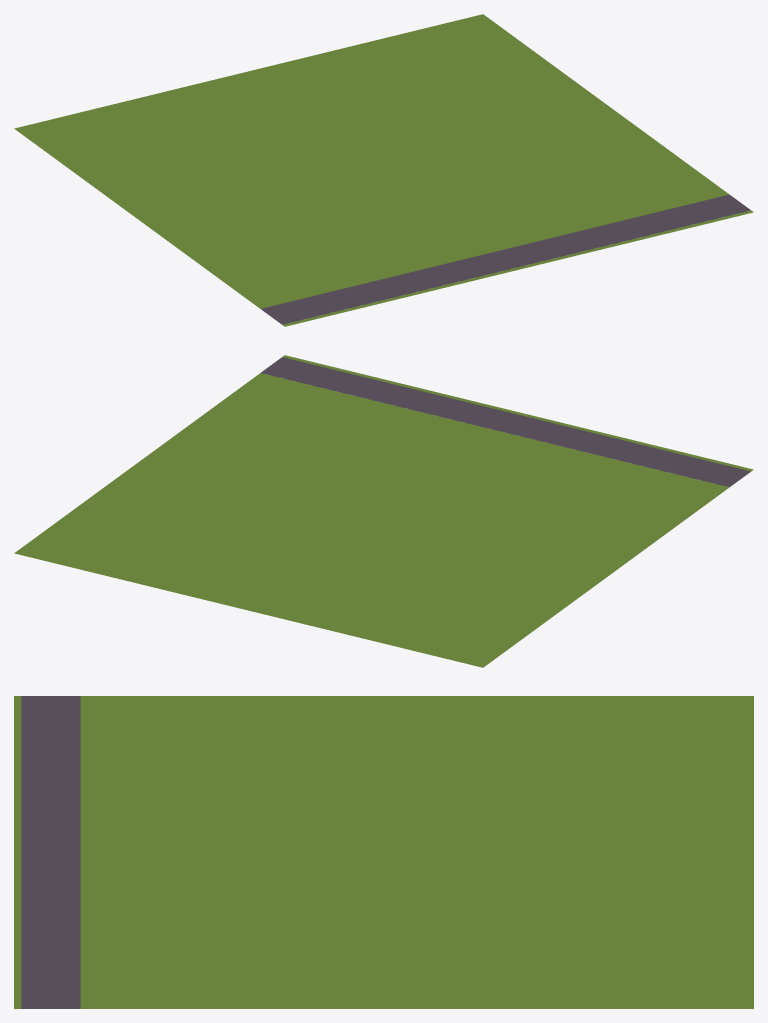
The model's file is cure-26-1.glb.
The picture shows the model from 3 angles, top to bottom: view 1: azimuth 30°, elevation 25°; view 2: azimuth 150°, elevation 25°; view 3: azimuth 270°, elevation 25°; orthographic projection. The views are drawn at different scales.
Visible parts, largest first — view 1: cure-26-1; view 2: cure-26-1; view 3: cure-26-1.
Part boxes in pixels (x1,y1,x2,y2): cure-26-1: (14, 14, 753, 326); cure-26-1: (14, 355, 753, 667); cure-26-1: (14, 696, 753, 1008).
Size of the model in its own units: 100 by 0.008 by 100.
